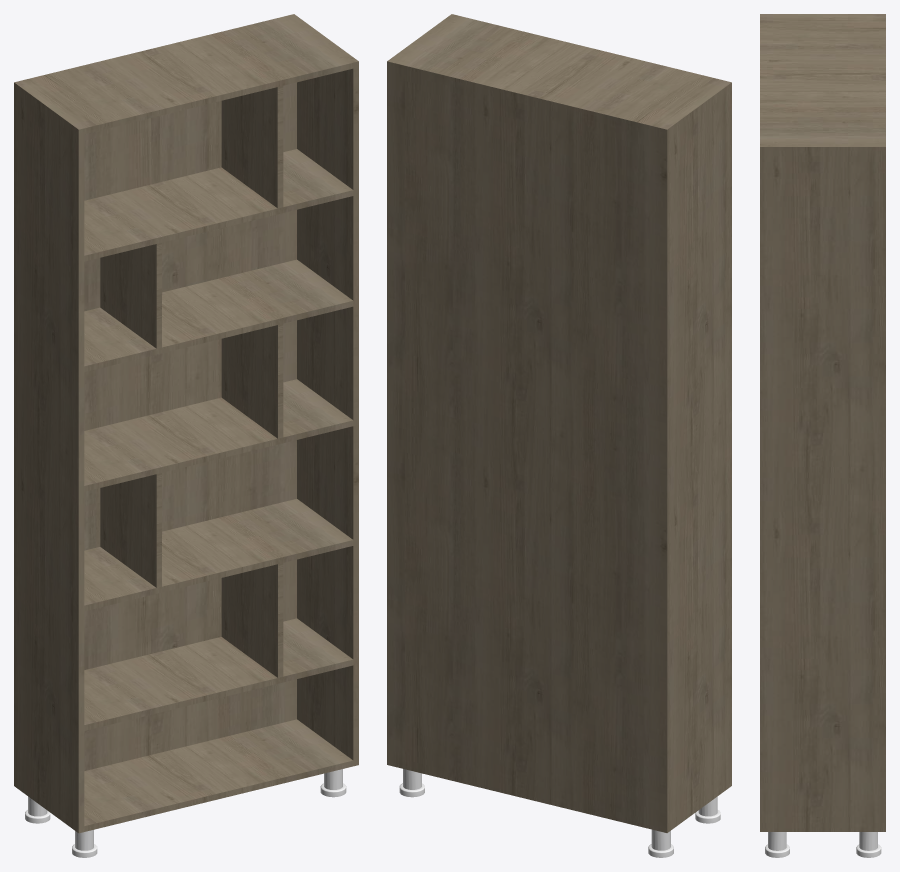
The picture shows the model from 3 angles, left to right: view 1: azimuth 30°, elevation 25°; view 2: azimuth 150°, elevation 25°; view 3: azimuth 270°, elevation 25°; orthographic projection. The views are drawn at different scales.
Visible parts, largest first — view 1: Box001, Box018, Box020, Box016, Box019, Box017, Box021, Box025, Box023, Box024, Box022; view 2: Box001; view 3: Box001, Cylinder004, Cylinder005.
Part boxes in pixels (bbox=[...]): Box001: bbox=[14, 14, 358, 833]; Box018: bbox=[84, 379, 353, 491]; Box020: bbox=[84, 149, 353, 261]; Box016: bbox=[84, 618, 353, 730]; Box019: bbox=[84, 259, 353, 371]; Box017: bbox=[84, 499, 353, 611]; Box021: bbox=[221, 86, 283, 208]; Box025: bbox=[221, 563, 283, 677]; Box023: bbox=[221, 324, 283, 438]; Box024: bbox=[100, 473, 161, 587]; Box022: bbox=[100, 242, 161, 348]; Box001: bbox=[387, 14, 731, 832]; Box001: bbox=[760, 14, 885, 831]; Cylinder004: bbox=[856, 832, 881, 857]; Cylinder005: bbox=[765, 832, 789, 857].
Bounding box in the file's own units: 1 × 2.5 × 0.4001.
Materials: 2 (1 with a texture image).
